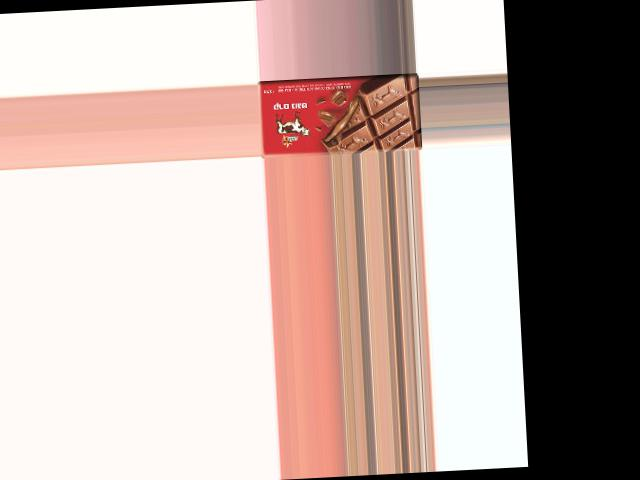chocolate: (257, 74, 420, 158)
